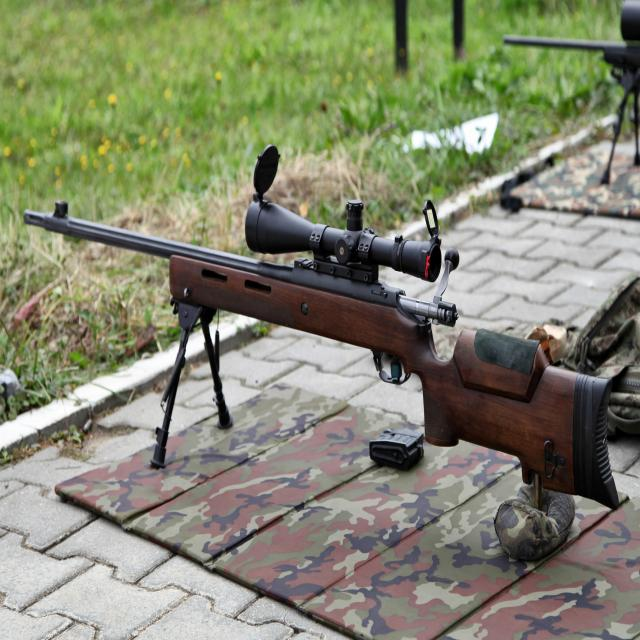firearm: (25, 145, 621, 510), (503, 5, 640, 96)
